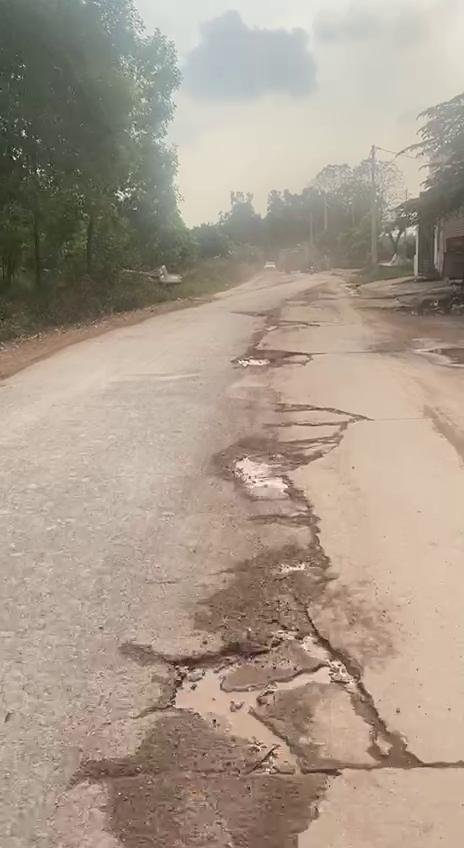pothole: (160, 600, 420, 796), (208, 422, 355, 506), (229, 345, 313, 369)
